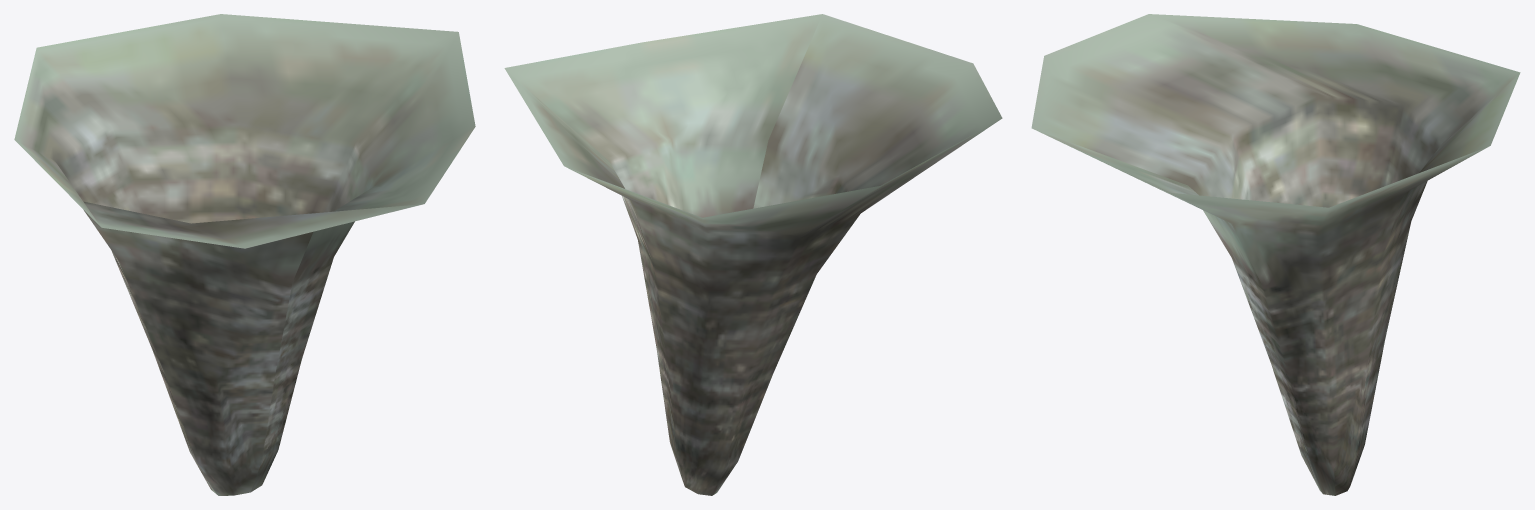
File: TROLLHOLE02_PS-SECRETSTALAG07.fbx
3 renders of one model, left to right at view 1: azimuth 30°, elevation 25°; view 2: azimuth 150°, elevation 25°; view 3: azimuth 270°, elevation 25°, orthographic. The views are drawn at different scales.
Visible parts, largest first — view 1: TROLLHOLE02_PS-SECRETSTALAG07; view 2: TROLLHOLE02_PS-SECRETSTALAG07; view 3: TROLLHOLE02_PS-SECRETSTALAG07.
Part boxes in pixels (x1=…): TROLLHOLE02_PS-SECRETSTALAG07: x1=14, y1=14, x2=475, y2=495; TROLLHOLE02_PS-SECRETSTALAG07: x1=504, y1=14, x2=1002, y2=495; TROLLHOLE02_PS-SECRETSTALAG07: x1=1031, y1=14, x2=1520, y2=495.
Bounding box in the file's own units: 24084 × 20789 × 23951.
1 material, 1 textured.
